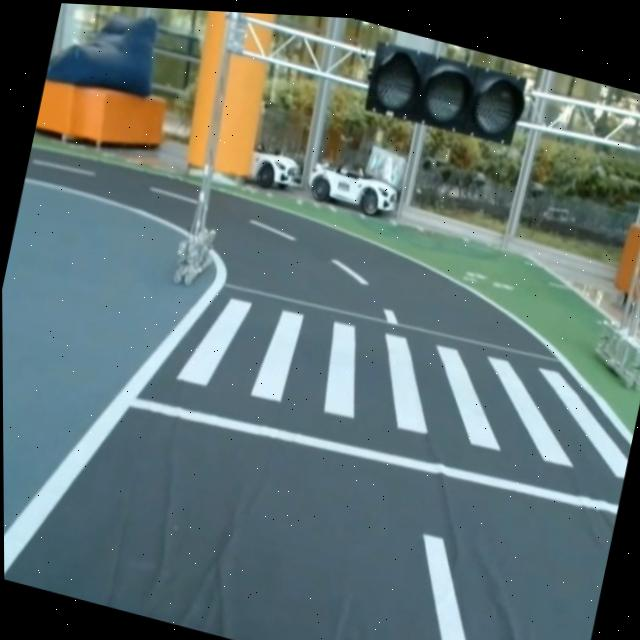traffic-light: (358, 32, 534, 153)
